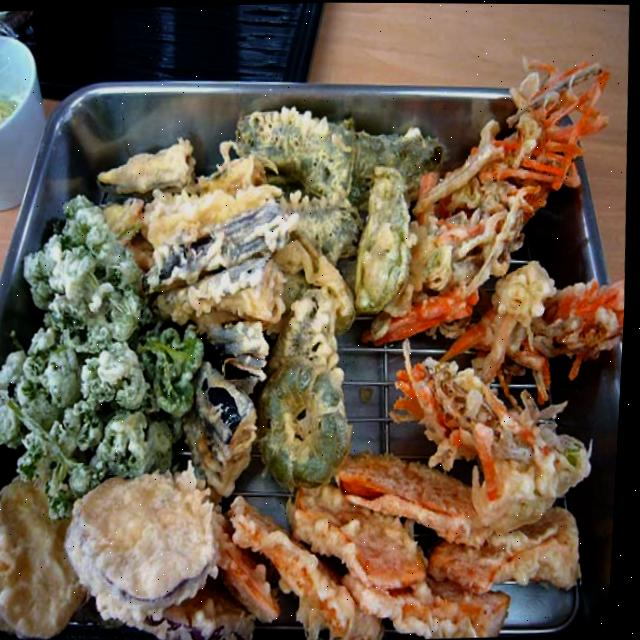蔬菜料理: (0, 48, 638, 640)
